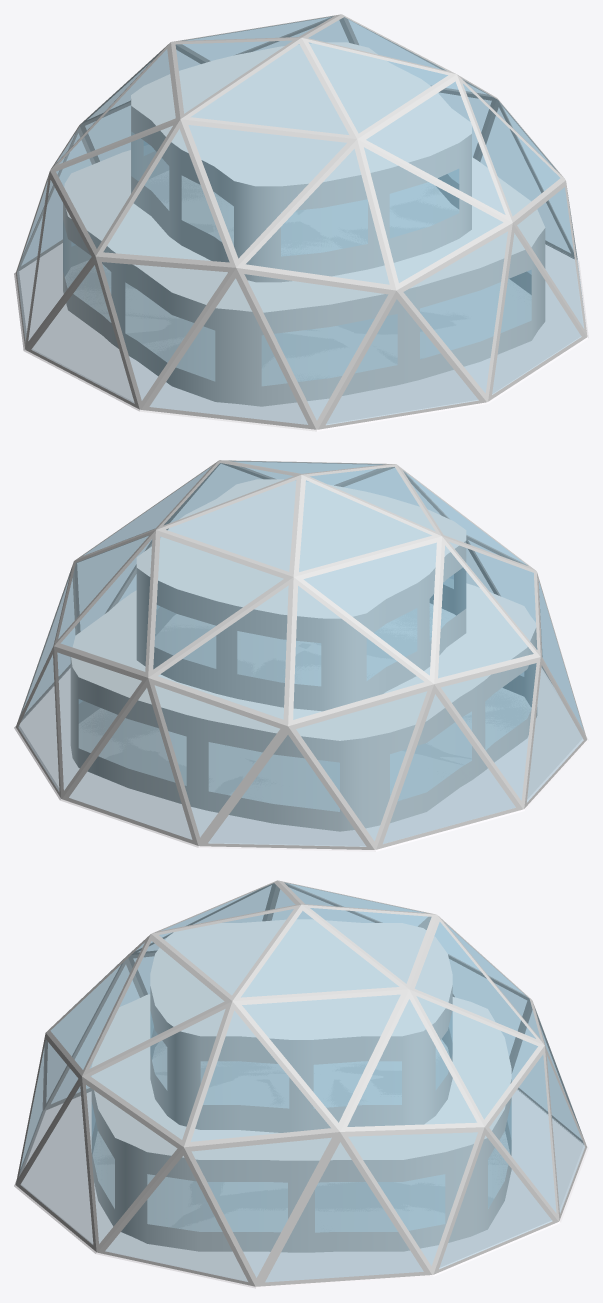
The model's file is Living_Quater.gltf.
The picture shows the model from 3 angles, top to bottom: view 1: azimuth 30°, elevation 25°; view 2: azimuth 150°, elevation 25°; view 3: azimuth 270°, elevation 25°; orthographic projection. The views are drawn at different scales.
Visible parts, largest first — view 1: Living_Quater; view 2: Living_Quater; view 3: Living_Quater.
Boxes of the visible parts, <box> form: Living_Quater: <box>14,14,588,431</box>; Living_Quater: <box>14,460,588,851</box>; Living_Quater: <box>14,880,588,1288</box>.
Bounding box in the file's own units: 22.41 × 11.29 × 22.41.
